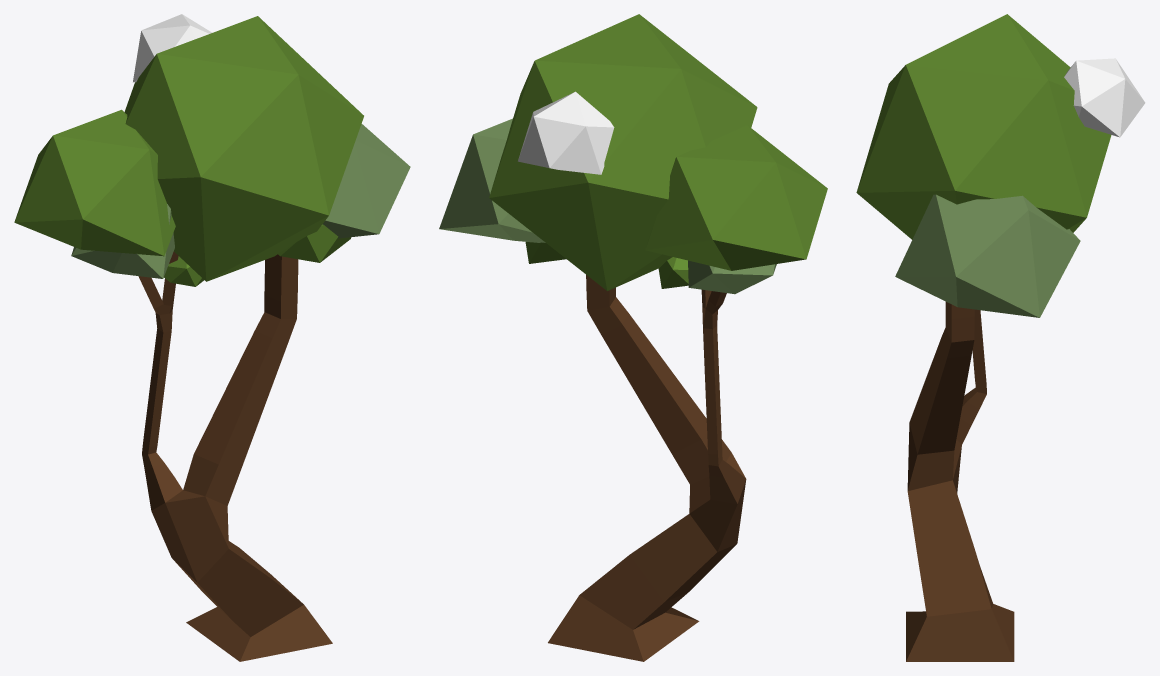
Rendered from arbol.glb.
3 views of the same model, side by side, from view 1: azimuth 30°, elevation 25°; view 2: azimuth 150°, elevation 25°; view 3: azimuth 270°, elevation 25° (orthographic). The views are drawn at different scales.
Parts seen in each view (by area): view 1: Icosphere.012, Cube.003, Icosphere.013, Icosphere.014, Icosphere.016, Icosphere.015, Icosphere.017, Icosphere.018; view 2: Icosphere.012, Cube.003, Icosphere.013, Icosphere.015, Icosphere.014, Icosphere.016, Icosphere.018, Icosphere.017; view 3: Icosphere.012, Cube.003, Icosphere.014, Icosphere.015.
Boxes of the visible parts, bbox=[...] form: Icosphere.012: bbox=[124, 16, 363, 281]; Cube.003: bbox=[138, 251, 332, 661]; Icosphere.013: bbox=[14, 109, 175, 256]; Icosphere.014: bbox=[322, 124, 410, 238]; Icosphere.016: bbox=[71, 204, 174, 278]; Icosphere.015: bbox=[133, 14, 212, 82]; Icosphere.017: bbox=[278, 224, 351, 262]; Icosphere.018: bbox=[164, 256, 203, 286]; Icosphere.012: bbox=[489, 14, 757, 290]; Cube.003: bbox=[548, 275, 746, 661]; Icosphere.013: bbox=[645, 125, 827, 270]; Icosphere.015: bbox=[518, 91, 614, 174]; Icosphere.014: bbox=[439, 118, 545, 242]; Icosphere.016: bbox=[688, 260, 776, 294]; Icosphere.018: bbox=[658, 257, 688, 288]; Icosphere.017: bbox=[525, 242, 566, 263]; Icosphere.012: bbox=[856, 14, 1111, 239]; Cube.003: bbox=[906, 302, 1014, 661]; Icosphere.014: bbox=[895, 194, 1080, 317]; Icosphere.015: bbox=[1064, 58, 1145, 137].
Size of the model in its own units: 8.7 by 13.46 by 6.01.
